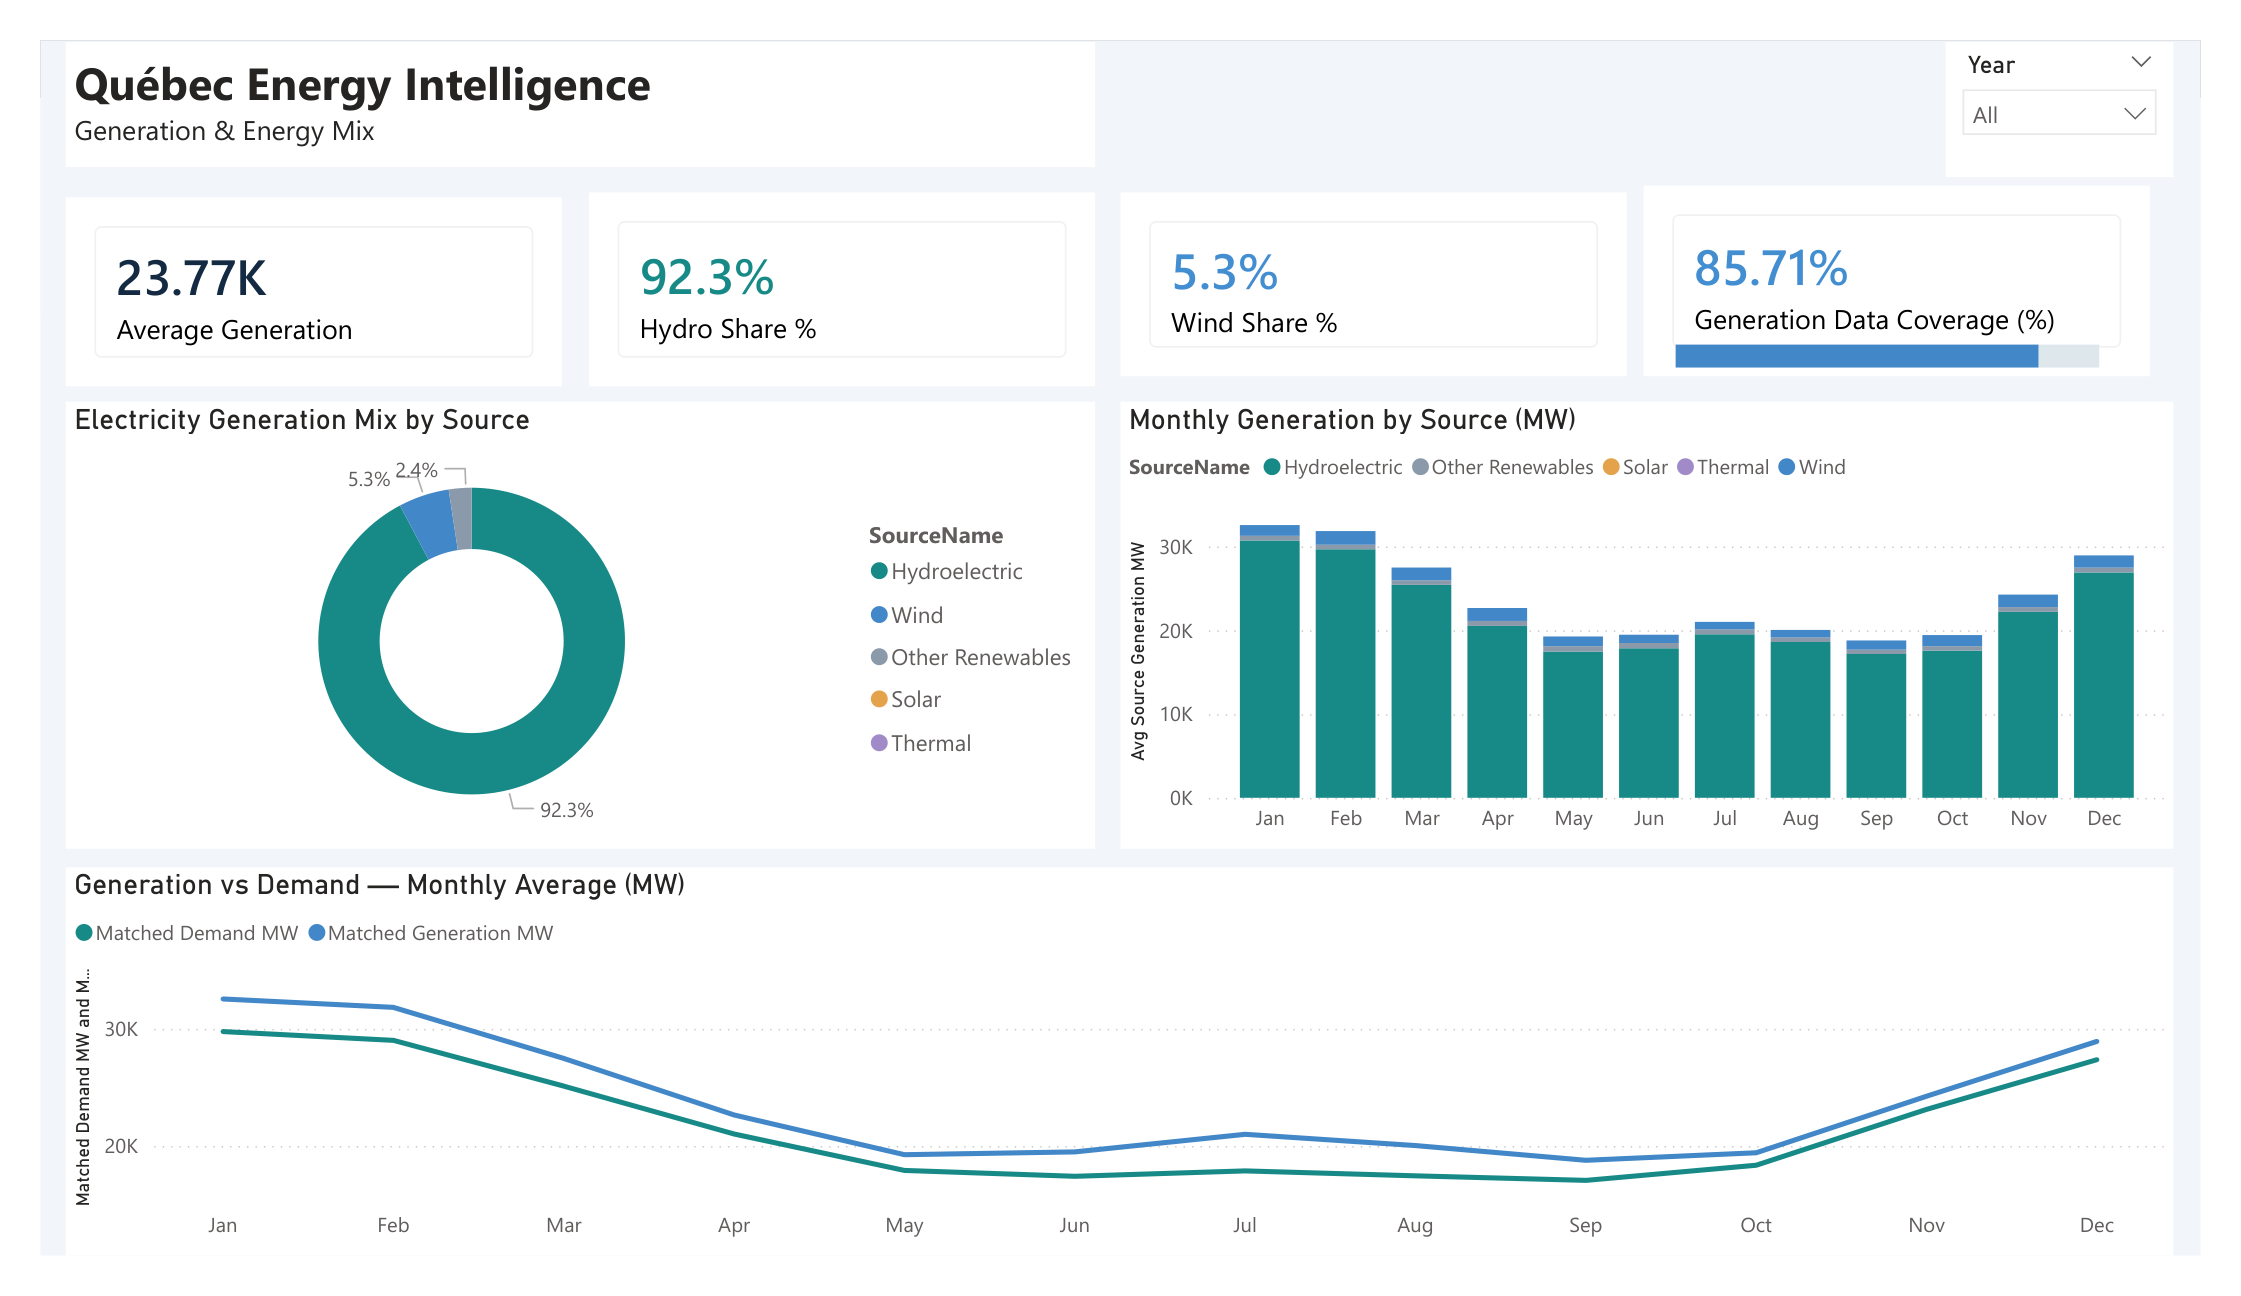

The dashboard page shown, as its layout file describes it:
{"tool":"powerbi","page":{"name":"Generation & Energy Mix ","canvas":[1280,720],"ordinal":1},"visuals":[{"type":"slicer","fields":{"Values":["dw DimDate.CalendarYear"]},"box":[1128.8,1.2,135,80],"z":0},{"type":"cardVisual","fields":{"Data":["_Measures.Avg Total Generation MW"]},"box":[15,92.5,293.8,112.5],"z":1000},{"type":"textbox","box":[15,1.2,610,73.8],"z":2000},{"type":"cardVisual","fields":{"Data":["_Measures.Hydro Share %"]},"box":[325,90,300,115],"z":3000},{"type":"cardVisual","fields":{"Data":["_Measures.Wind Share %"]},"box":[640,90,300,108.8],"z":4000},{"type":"donutChart","title":"Electricity Generation Mix by Source","fields":{"Category":["dw DimEnergySource.SourceName"],"Y":["_Measures.Avg Source Generation MW"]},"box":[15,213.8,610,265],"z":5000},{"type":"columnChart","title":"Monthly Generation by Source (MW)","fields":{"Category":["dw DimDate.MonthShort"],"Y":["_Measures.Avg Source Generation MW"],"Series":["dw DimEnergySource.SourceName"]},"box":[640,213.8,623.8,265],"z":6000},{"type":"lineChart","title":"Generation vs Demand — Monthly Average (MW)","fields":{"Category":["dw DimDate.MonthShort"],"Y":["_Measures.Matched Demand MW","_Measures.Matched Generation MW"]},"box":[15,490,1248.8,230],"z":7000},{"type":"cardVisual","fields":{"Data":["_Measures.Generation Coverage Page2 %"]},"box":[950,86.2,300,112.5],"z":8000},{"type":"hundredPercentStackedBarChart","fields":{"Category":["CoverageAxis.Label"],"Y":["_Measures.Generation Coverage Page2 %","_Measures.Missing Generation Page2 %"]},"box":[963.8,148.8,261.2,68.8],"z":9000}]}

Visuals, with their boxes in screenshot pixels (x1, y1, x2, y2), scaled from the page's 1280x720 canvas onto the 2241x1296 screenshot:
slicer - dw DimDate.CalendarYear: rect(1976, 2, 2213, 146)
cardVisual - _Measures.Avg Total Generation MW: rect(26, 166, 541, 369)
textbox: rect(26, 2, 1094, 135)
cardVisual - _Measures.Hydro Share %: rect(569, 162, 1094, 369)
cardVisual - _Measures.Wind Share %: rect(1120, 162, 1646, 358)
"Electricity Generation Mix by Source" donutChart: rect(26, 385, 1094, 862)
"Monthly Generation by Source (MW)" columnChart: rect(1120, 385, 2213, 862)
"Generation vs Demand — Monthly Average (MW)" lineChart: rect(26, 882, 2213, 1295)
cardVisual - _Measures.Generation Coverage Page2 %: rect(1663, 155, 2188, 358)
hundredPercentStackedBarChart - CoverageAxis.Label x _Measures.Generation Coverage Page2 %: rect(1687, 268, 2145, 392)
